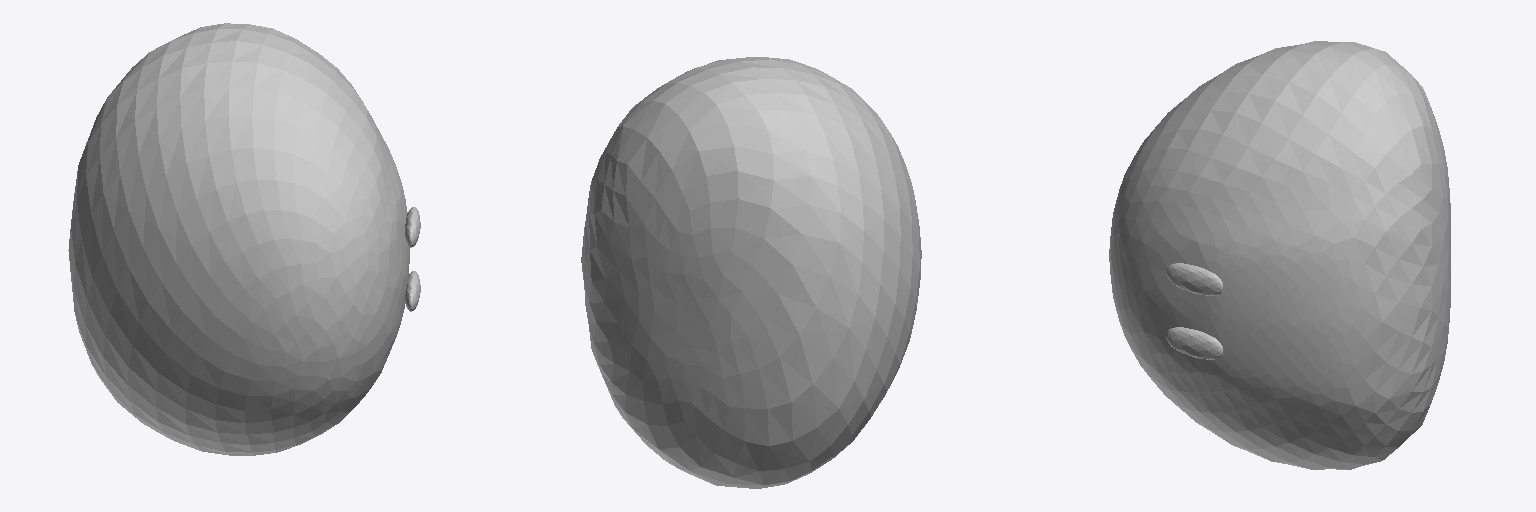
File: Boss.obj
The picture shows the model from 3 angles: view 1: azimuth 30°, elevation 25°; view 2: azimuth 150°, elevation 25°; view 3: azimuth 270°, elevation 25°; orthographic projection.
Size of the model in its own units: 0.963 by 1.28 by 0.9801.